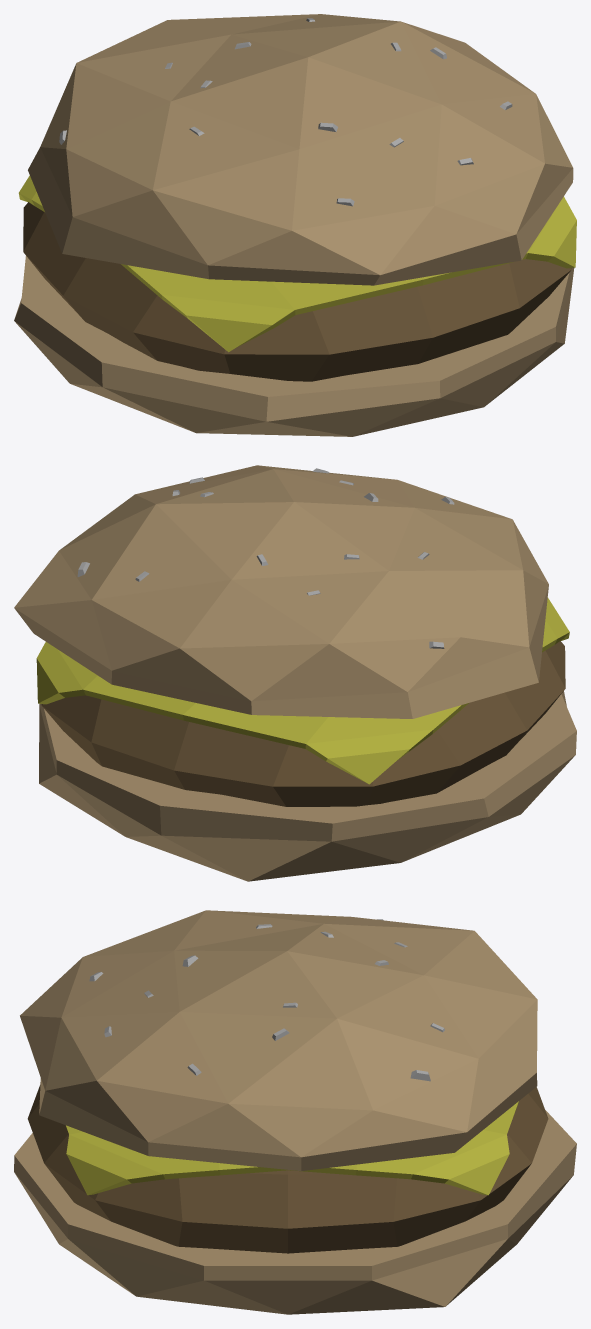
Rendered from Cheeseburger.glb.
The picture shows the model from 3 angles, top to bottom: view 1: azimuth 30°, elevation 25°; view 2: azimuth 150°, elevation 25°; view 3: azimuth 270°, elevation 25°; orthographic projection. The views are drawn at different scales.
Visible parts, largest first — view 1: LightYellow, Brown, Cheese, White; view 2: LightYellow, Brown, Cheese, White; view 3: LightYellow, Brown, Cheese, White.
Boxes of the visible parts, x1,y1,x2,y2 form: LightYellow: (14,14,574,436); Brown: (23,202,571,381); Cheese: (18,175,576,352); White: (59,18,512,206); LightYellow: (14,465,576,881); Brown: (41,641,565,806); Cheese: (36,597,569,784); White: (77,468,454,648); LightYellow: (14,910,576,1314); Brown: (27,1085,548,1253); Cheese: (66,1101,518,1195); White: (89,919,444,1081).
Size of the model in its own units: 1.46 by 0.9382 by 1.54.
